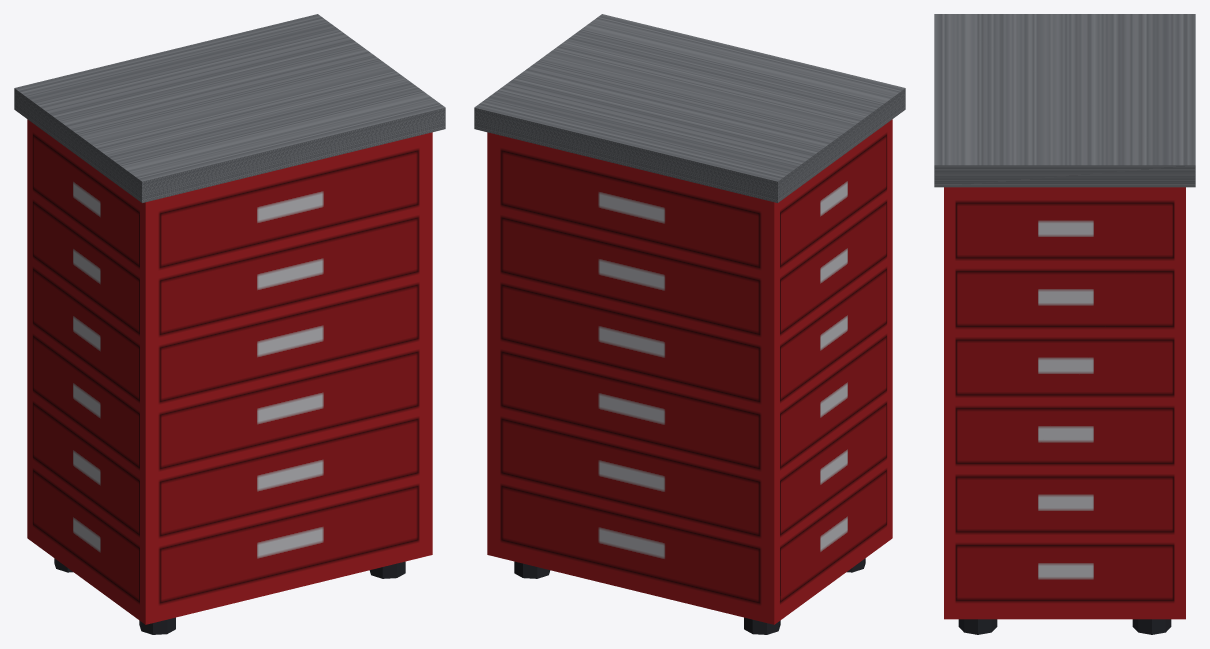
The model's file is toolbox.obj.
The picture shows the model from 3 angles, left to right: view 1: azimuth 30°, elevation 25°; view 2: azimuth 150°, elevation 25°; view 3: azimuth 270°, elevation 25°; orthographic projection. The views are drawn at different scales.
Bounding box in the file's own units: 0.74 × 1.1 × 0.54.
3 materials, 3 textured.
